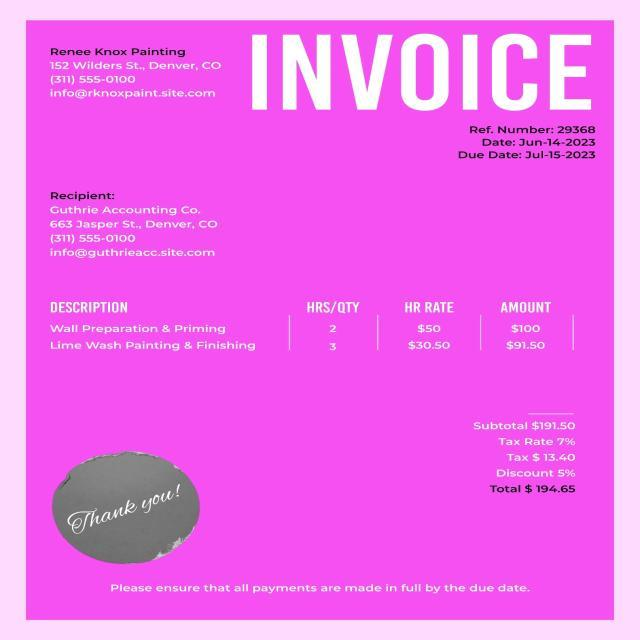ROI: (49, 298, 577, 355), (250, 32, 596, 116), (49, 191, 220, 260), (46, 46, 222, 100), (471, 421, 578, 494), (66, 481, 184, 537), (110, 583, 532, 597), (458, 120, 598, 162)
